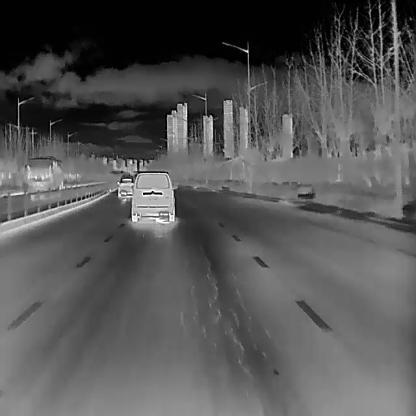car: (130, 169, 177, 224), (25, 155, 61, 199), (117, 174, 134, 199)
